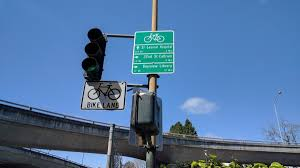signal: (81, 28, 103, 78)
